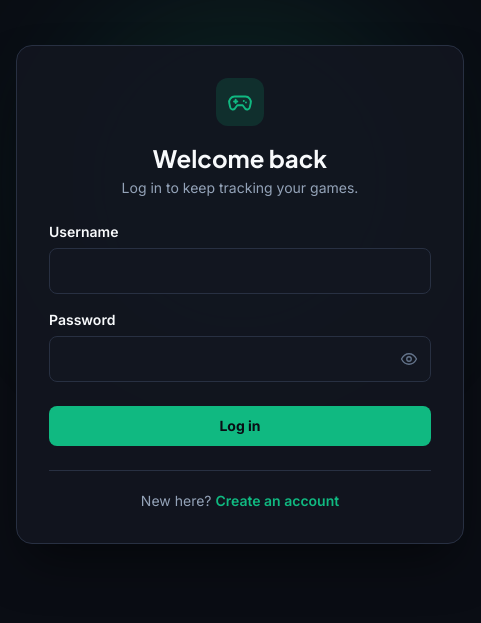
Test: LoginView › shows the backend message when the credentials are wrong
This screenshot has width=481, height=623.
In the field labelled "Username": (240, 271) [49,248,431,294], type "demo"
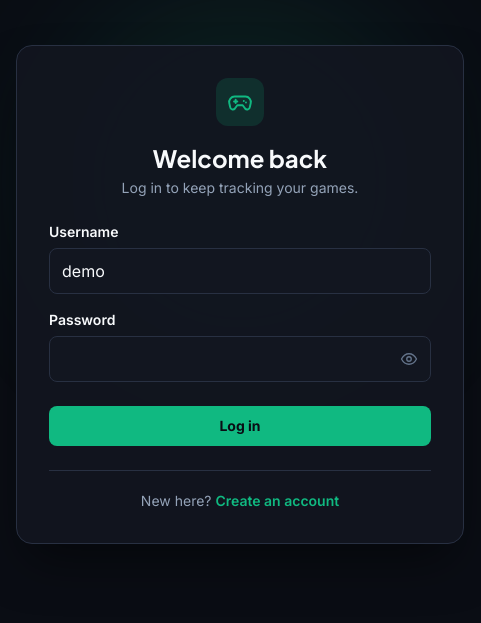
In the password field labelled "Password": (240, 359) [49,336,431,382], type "wrong-password"
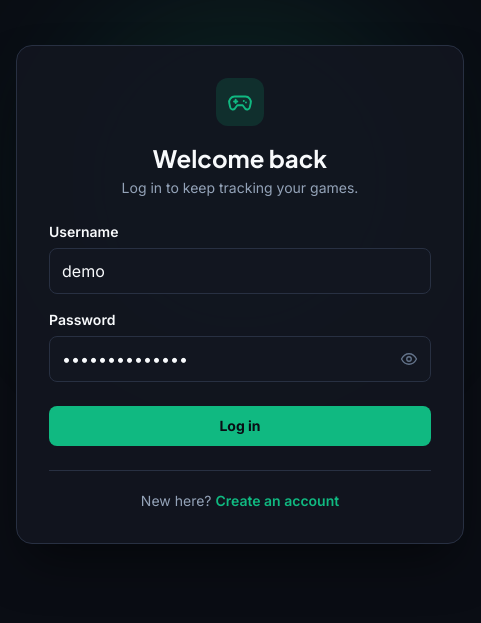
Submit the form, box [49,222,431,446]
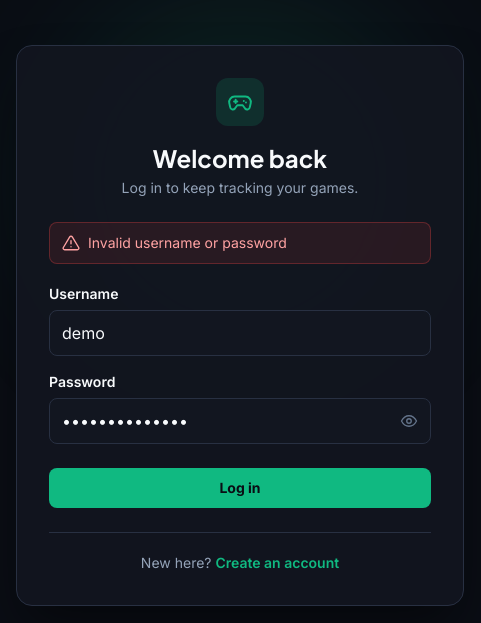
Expected: the message with test id "form-error" reads "Invalid username or password", [88,234,287,251]
